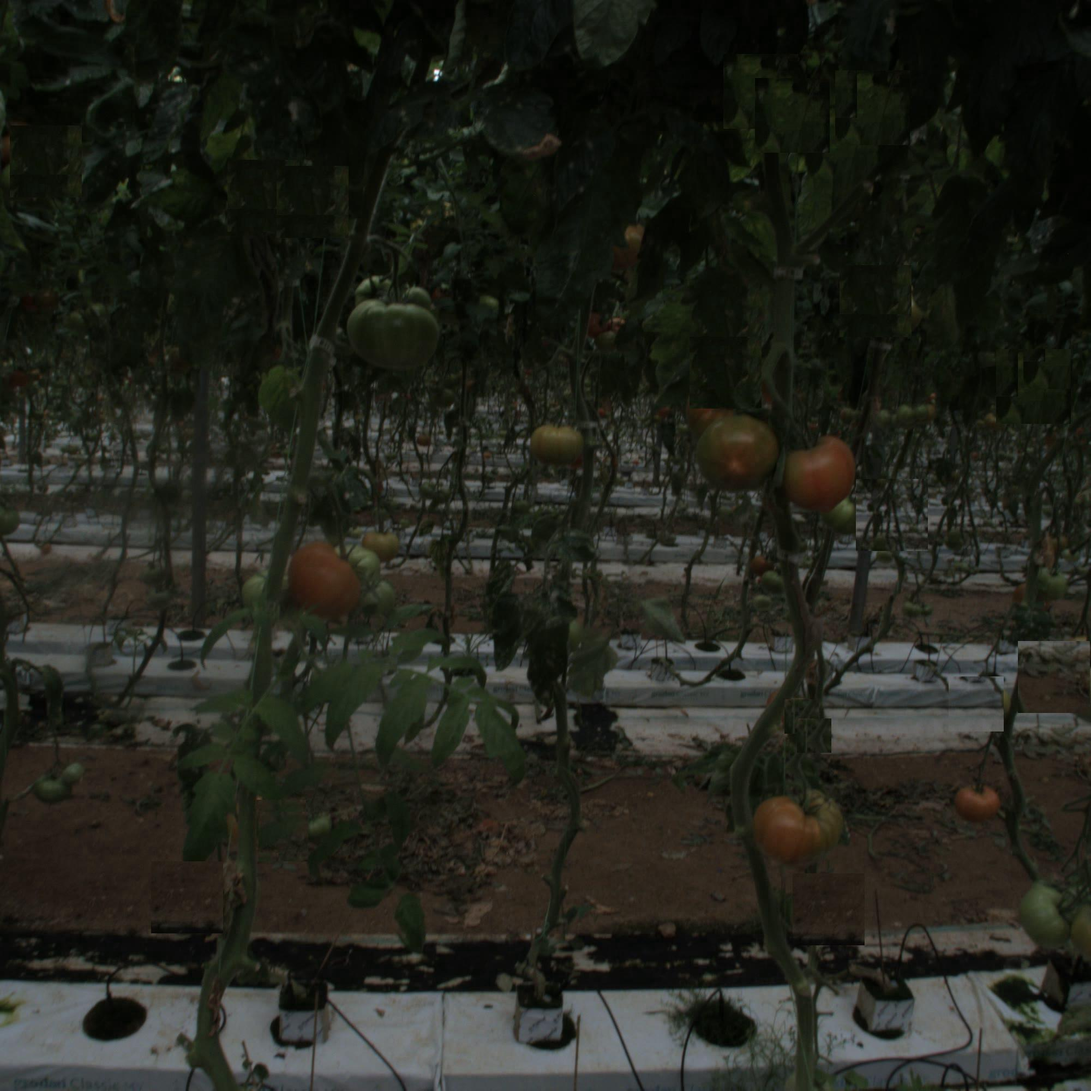['unripe', 'semi-ripe', 'fully-ripe']: (347, 283, 439, 375), (695, 409, 778, 492), (1024, 885, 1089, 950)
